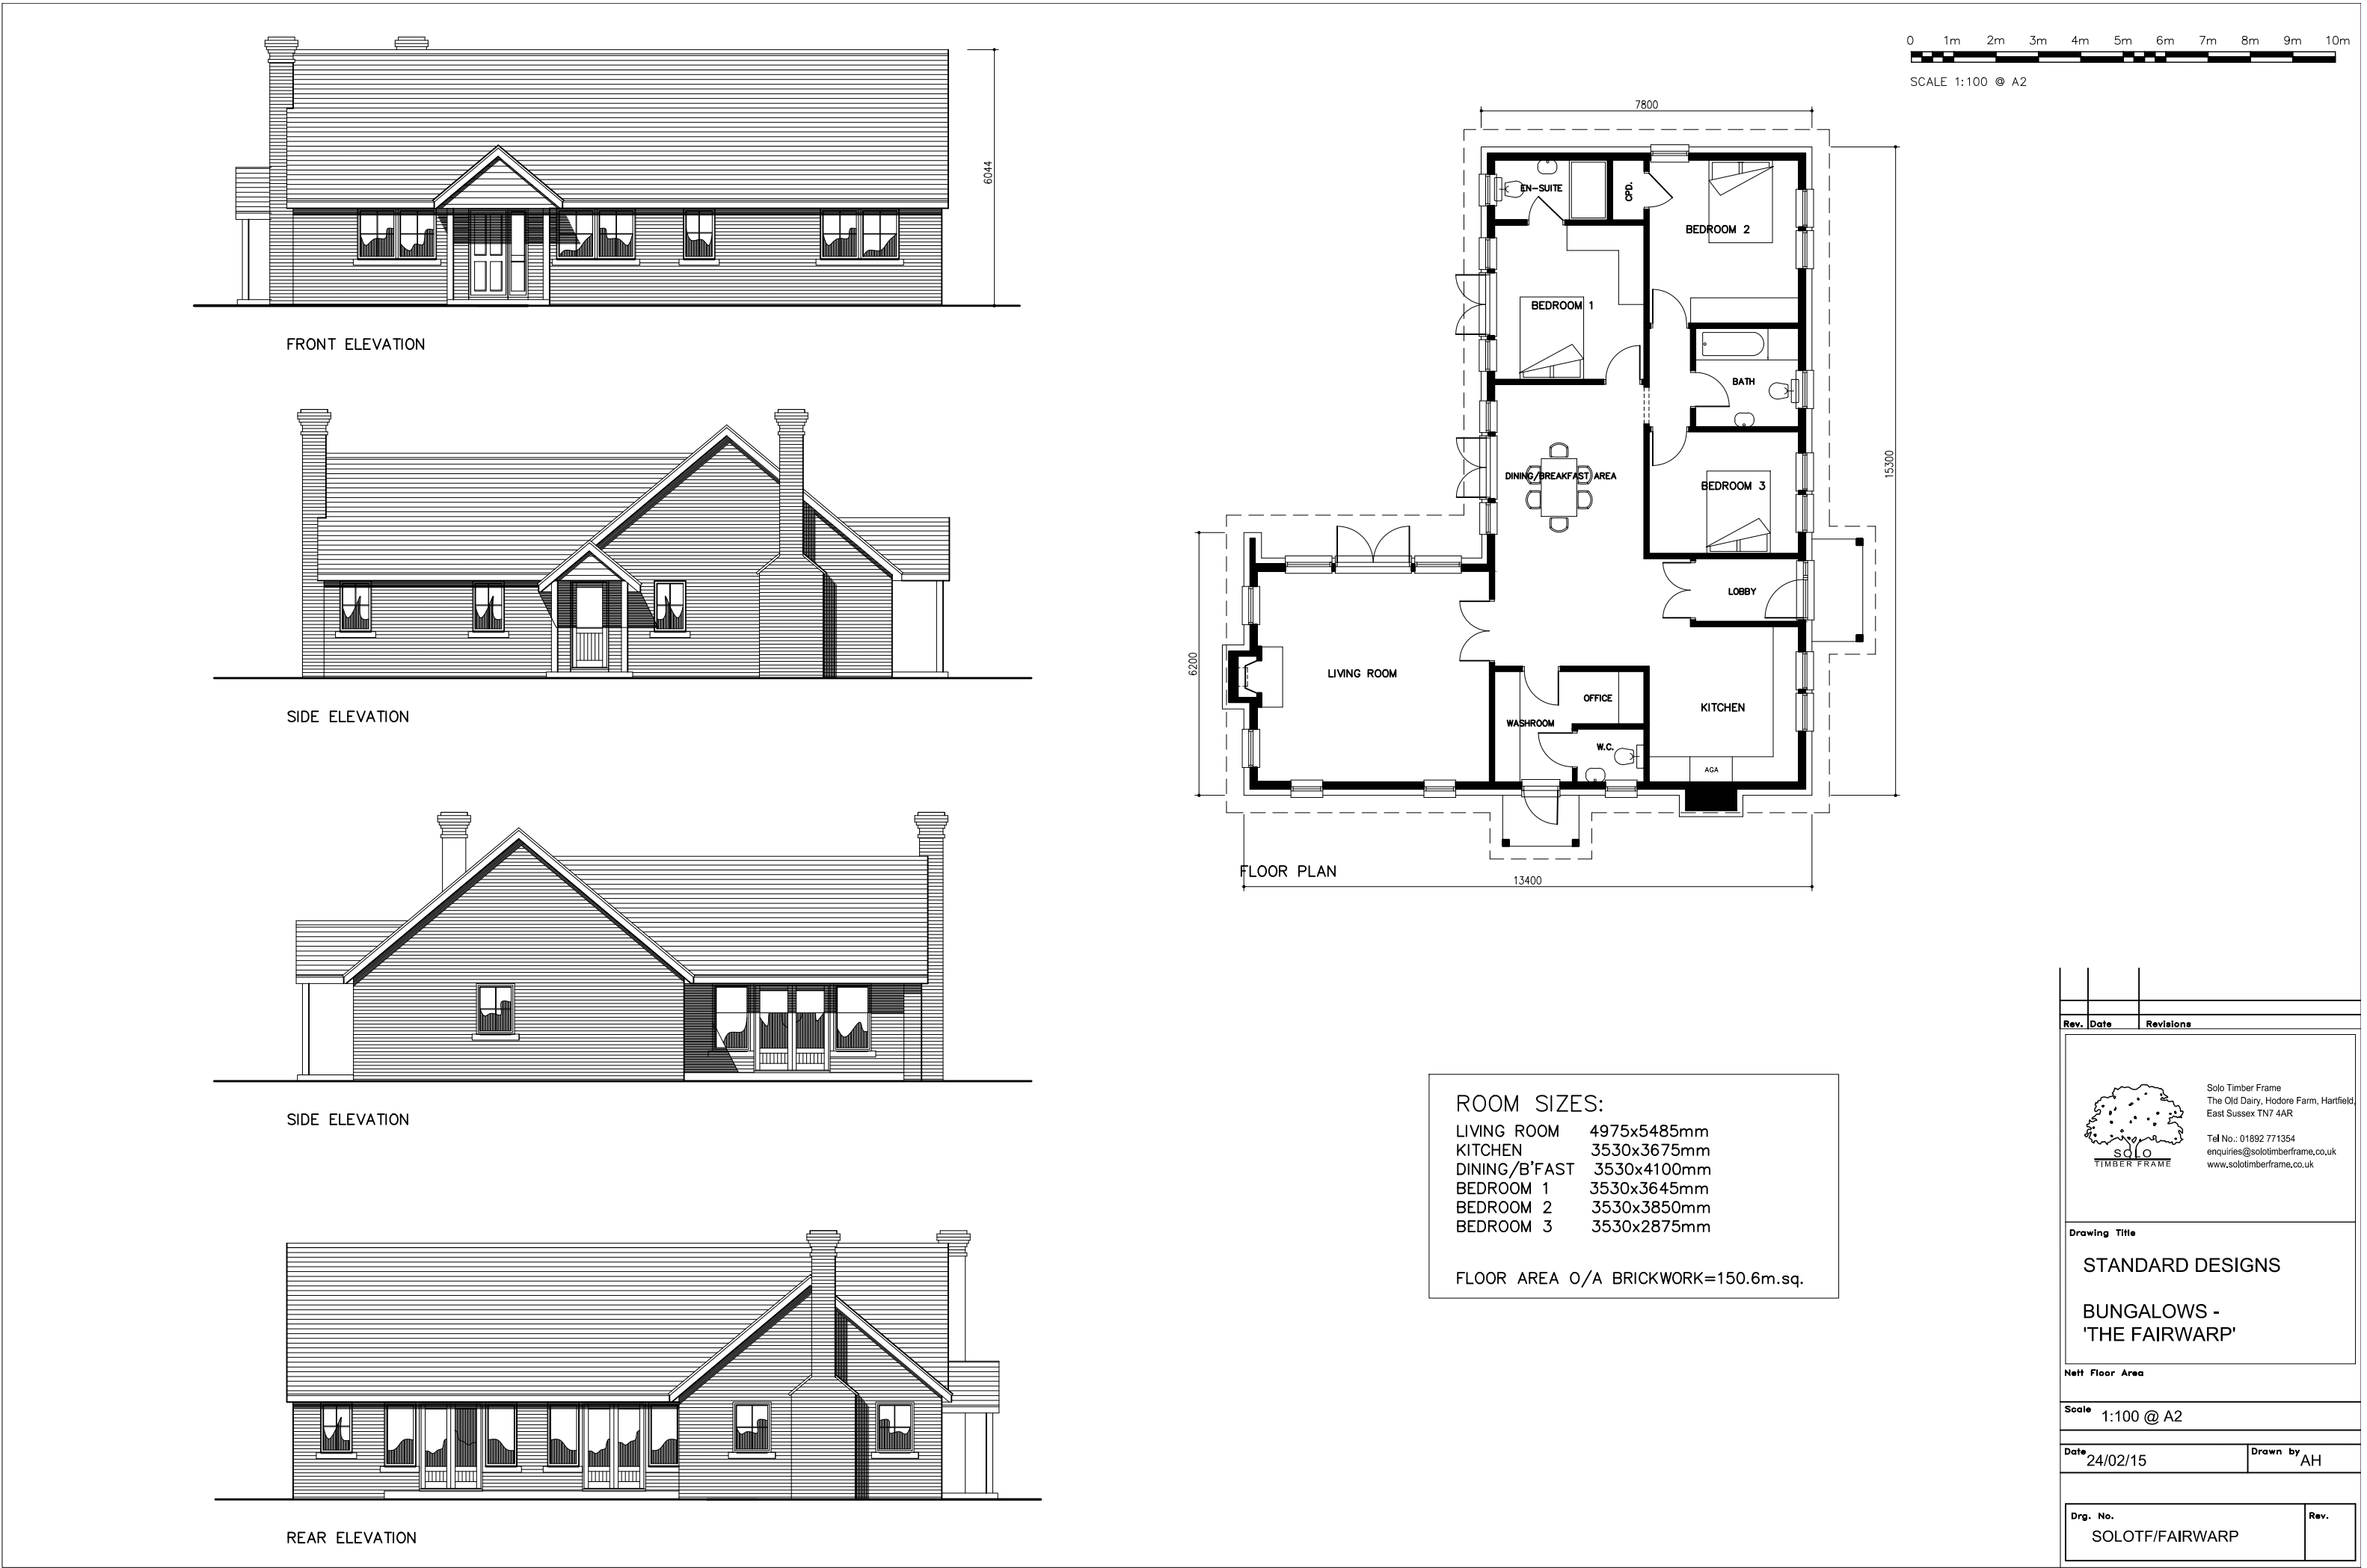door: (1330, 520, 1417, 553), (1452, 595, 1485, 665), (1657, 556, 1690, 625), (1445, 432, 1478, 499), (1450, 269, 1477, 338), (1534, 726, 1573, 772), (1760, 574, 1795, 621), (1648, 280, 1686, 322), (1602, 339, 1641, 380), (1522, 672, 1561, 710), (1650, 432, 1686, 469), (1697, 369, 1732, 408), (1520, 796, 1562, 828), (1527, 194, 1561, 226), (1646, 175, 1676, 210)
